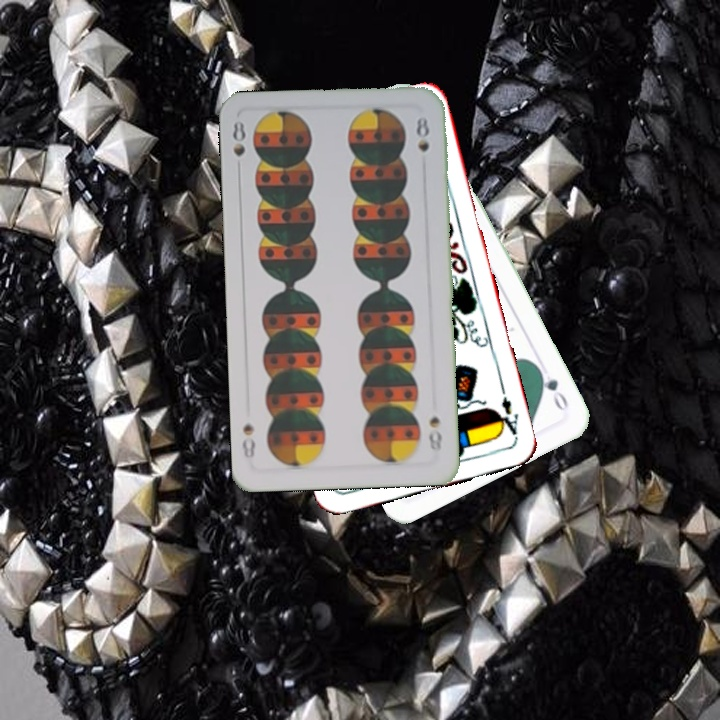EA: (492, 384, 521, 442)
GO: (533, 363, 571, 414)
S8: (228, 117, 248, 176), (424, 412, 444, 455)
